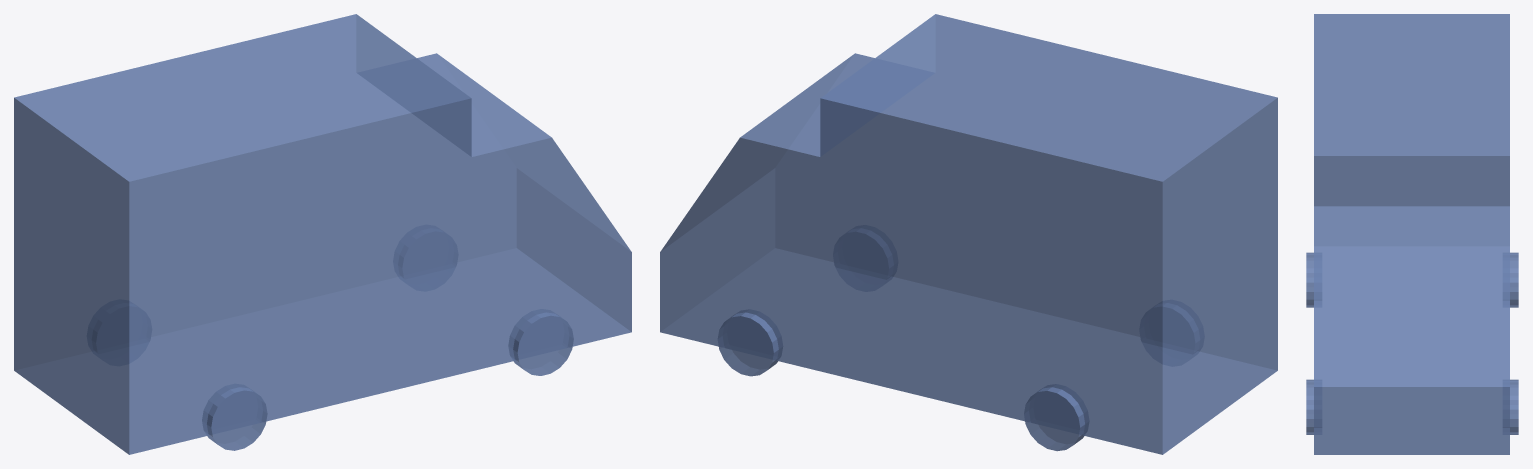
File: example-animation.FBX
The picture shows the model from 3 angles, left to right: view 1: azimuth 30°, elevation 25°; view 2: azimuth 150°, elevation 25°; view 3: azimuth 270°, elevation 25°; orthographic projection. The views are drawn at different scales.
Parts seen in each view (by area): view 1: Car_09; view 2: Car_09; view 3: Car_09.
Boxes of the visible parts, x1,y1,x2,y2 form: Car_09: (14, 14, 631, 454); Car_09: (660, 14, 1277, 454); Car_09: (1306, 14, 1518, 454).
Bounding box in the file's own units: 307 × 169 × 132.
